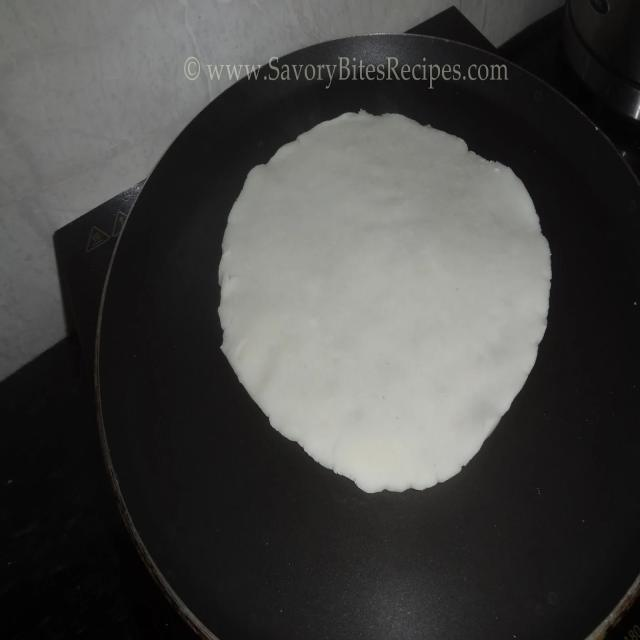RICE BHAKRI: (211, 92, 560, 515)
